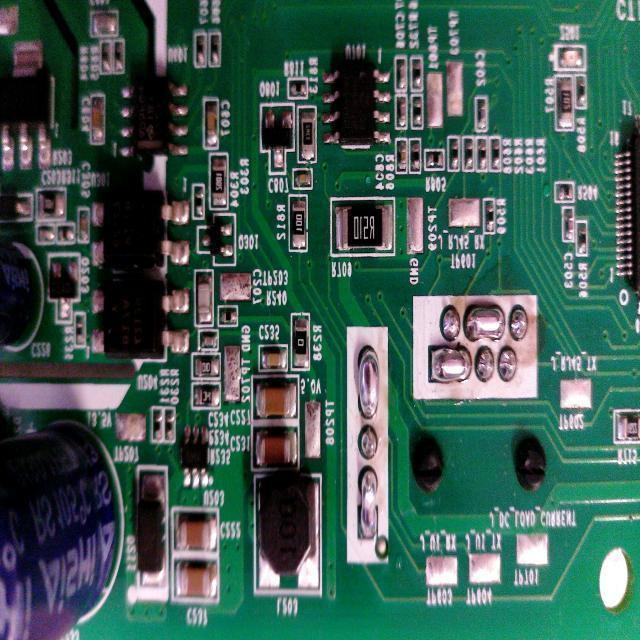Soldering bridge: (462, 295, 507, 346), (356, 340, 383, 420), (427, 346, 473, 392), (358, 466, 380, 541)
